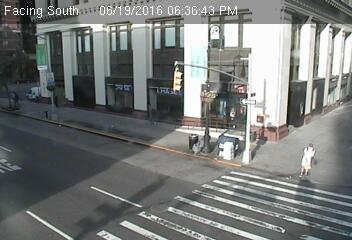neg: (188, 122, 207, 148), (33, 107, 51, 131), (145, 107, 162, 130)
pos: (292, 137, 323, 178), (1, 87, 20, 112)
